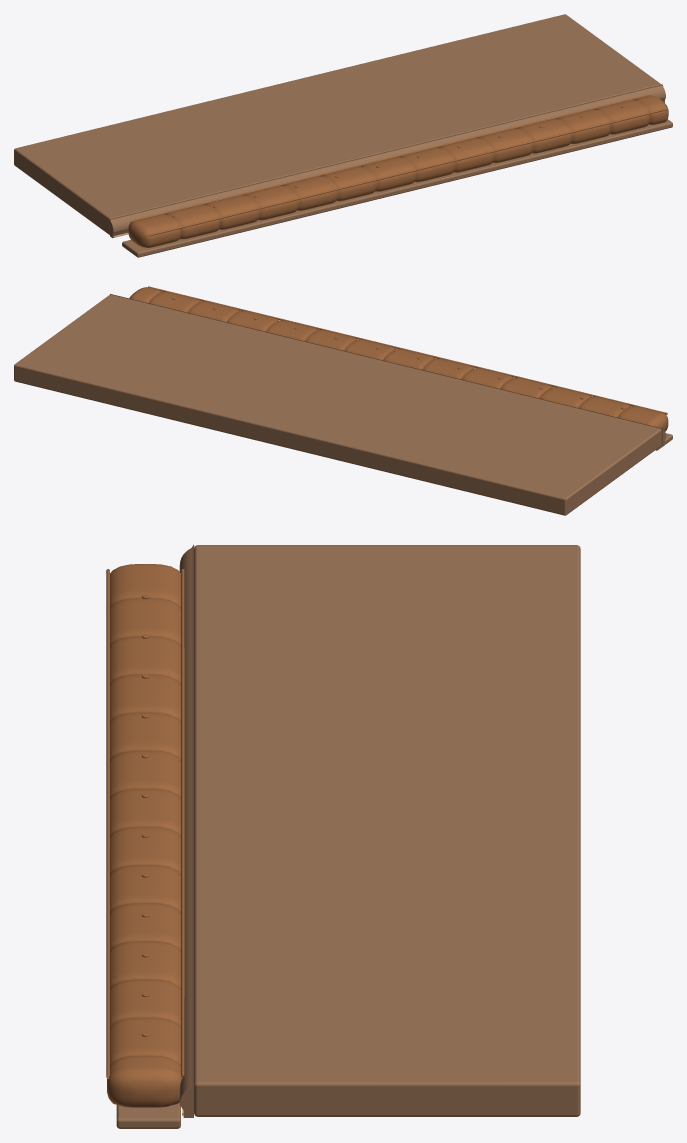
File: desk_side.glb
3 renders of one model, top to bottom at view 1: azimuth 30°, elevation 25°; view 2: azimuth 150°, elevation 25°; view 3: azimuth 270°, elevation 25°, orthographic. The views are drawn at different scales.
Visible parts, largest first — view 1: Top, Armrest, Edge, ArmRail, Piping, Piping.001; view 2: Top, Armrest, Piping, Edge; view 3: Top, Armrest, Edge, Piping, Piping.001, ArmRail.
Boxes of the visible parts, x1=… form: Top: x1=14, y1=14, x2=661, y2=234; Armrest: x1=128, y1=95, x2=668, y2=247; Edge: x1=110, y1=84, x2=665, y2=238; ArmRail: x1=122, y1=119, x2=672, y2=257; Piping: x1=147, y1=108, x2=667, y2=236; Piping.001: x1=129, y1=94, x2=648, y2=222; Top: x1=14, y1=294, x2=661, y2=515; Armrest: x1=129, y1=287, x2=668, y2=431; Piping: x1=148, y1=286, x2=667, y2=414; Edge: x1=110, y1=294, x2=665, y2=445; Top: x1=194, y1=545, x2=580, y2=1116; Armrest: x1=107, y1=564, x2=181, y2=1107; Edge: x1=179, y1=544, x2=194, y2=1117; Piping: x1=106, y1=569, x2=109, y2=1078; Piping.001: x1=181, y1=569, x2=184, y2=1078; ArmRail: x1=116, y1=1102, x2=180, y2=1128.
Bounding box in the file's own units: 1.98 × 0.094 × 0.736.
